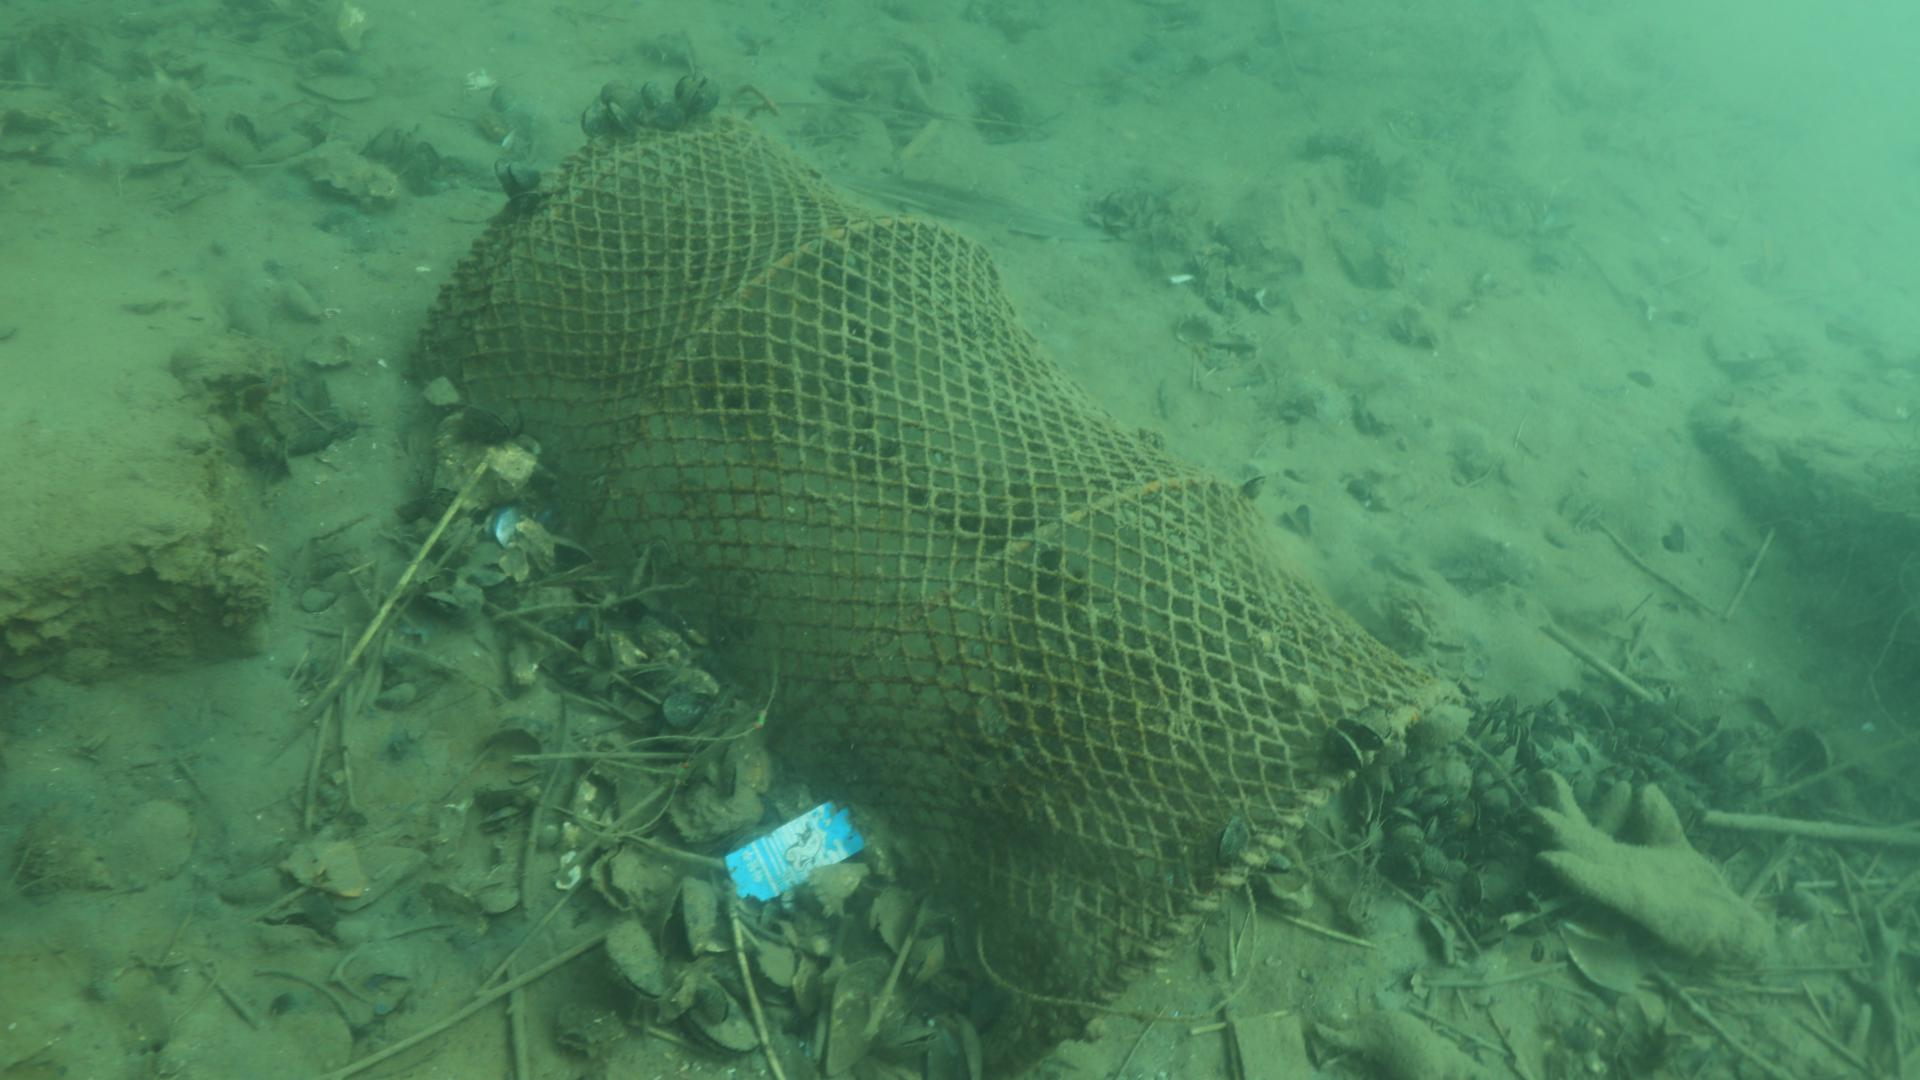spring fish trap: (402, 109, 1468, 1080)
